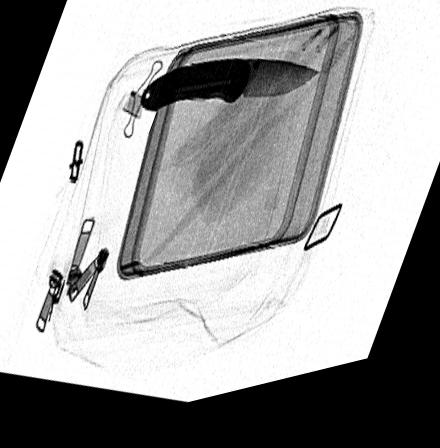Knife: (139, 70, 321, 120)
